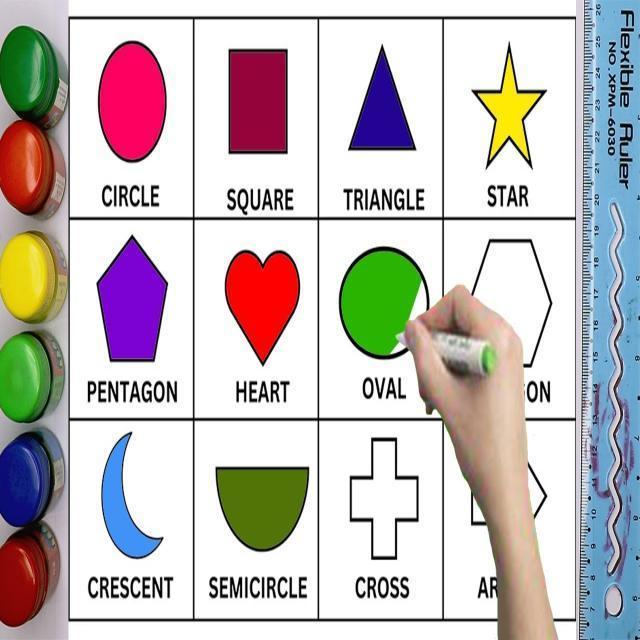circle: (328, 238, 443, 377), (83, 38, 190, 174)
cross: (340, 428, 430, 575)
square: (210, 21, 316, 198)
triangle: (326, 31, 432, 186)
